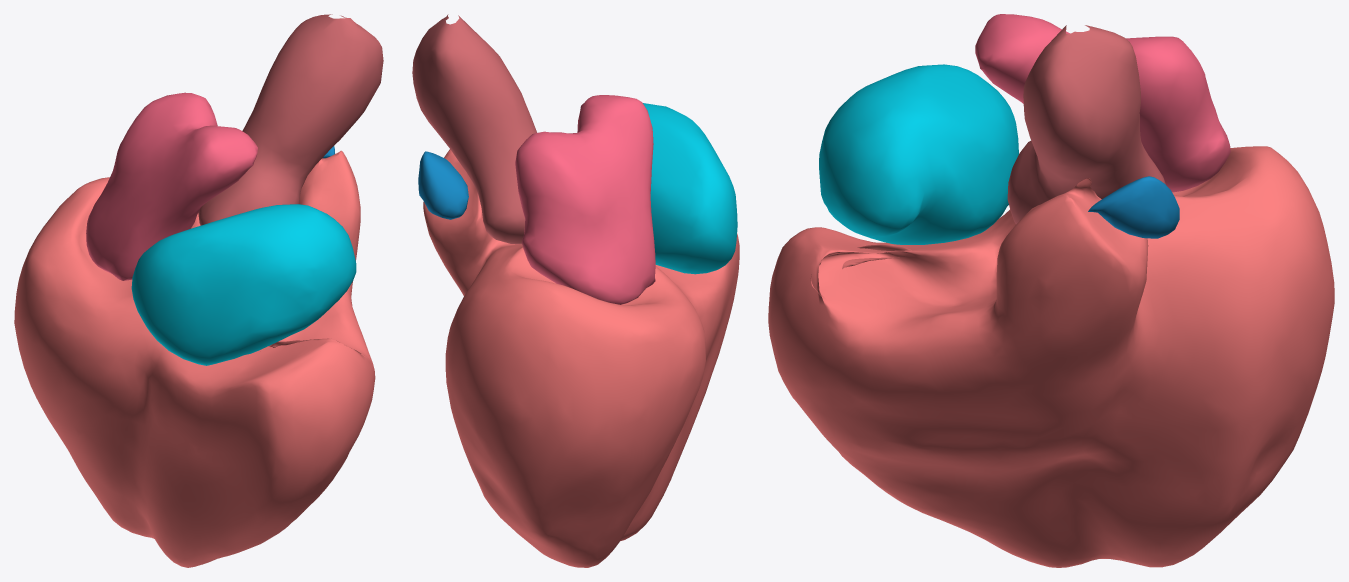
Rendered from frame_47.glb.
3 views of the same model, side by side, from view 1: azimuth 30°, elevation 25°; view 2: azimuth 150°, elevation 25°; view 3: azimuth 270°, elevation 25° (orthographic). The views are drawn at different scales.
Parts seen in each view (by area): view 1: Renderer Node; view 2: Renderer Node; view 3: Renderer Node.
Boxes of the visible parts, x1,y1,x2,y2 form: Renderer Node: (14,14,383,567); Renderer Node: (412,14,739,567); Renderer Node: (768,14,1334,567).
Bounding box in the file's own units: 102 × 158 × 127.
